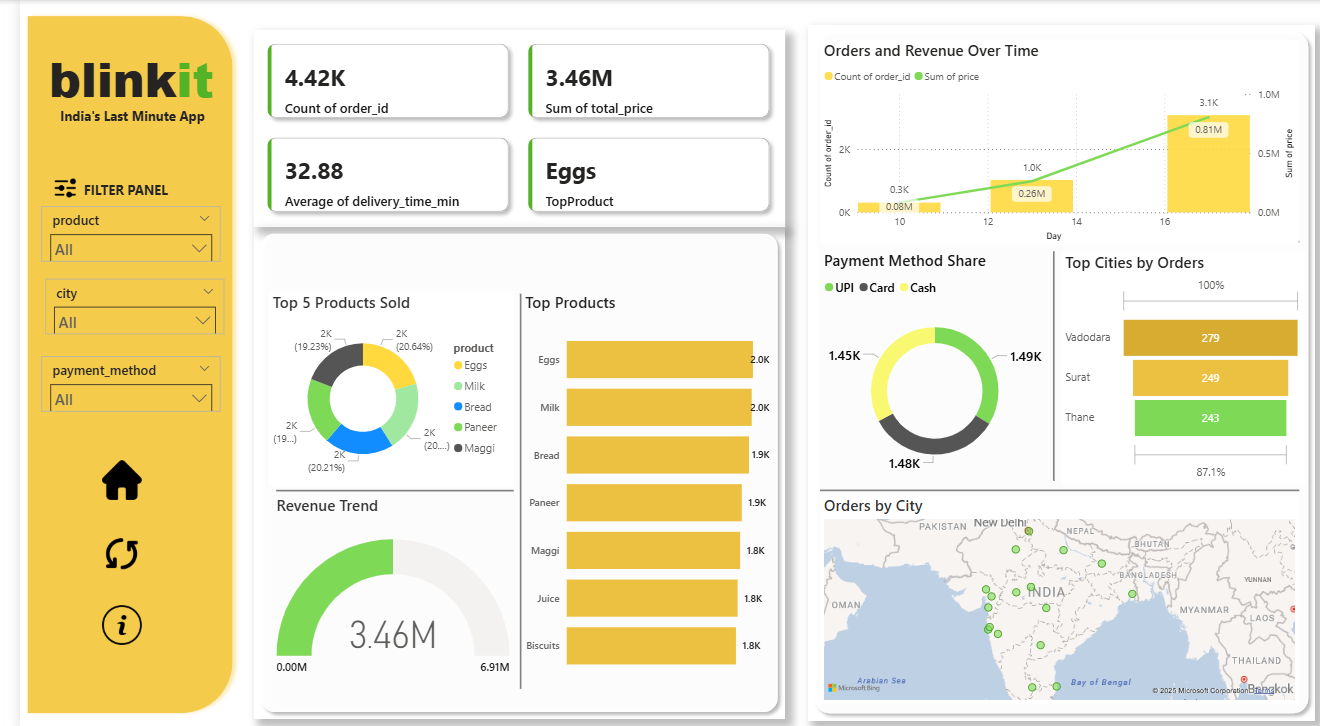

This screenshot's page, from the dashboard's own definition file:
{"tool":"powerbi","page":{"name":"Blinkit Real-Time Analytics Dashboard","canvas":[1600,900],"ordinal":0},"visuals":[{"type":"shape","box":[0,10,270,873.3],"z":0},{"type":"textbox","box":[30,48.6,232.9,95.7],"z":1000},{"type":"textbox","box":[44.3,125.7,205.7,37.1],"z":2000},{"type":"cardVisual","fields":{"Data":["Count(orders_data.order_id)","Sum(orders_data.total_price)","Avg(orders_data.delivery_time_min)","orders_data.TopProduct"]},"box":[286.7,36.7,651.7,241.7],"z":3000},{"type":"shape","box":[286.7,278.3,651.7,605],"z":4000},{"type":"gauge","title":"Revenue Trend","fields":{"Y":["Sum(orders_data.total_price)"]},"box":[309.8,607.4,296,254.6],"z":5000},{"type":"shape","box":[314.4,579.8,291.4,44.5],"z":6000},{"type":"shape","box":[595,360,38.3,485],"z":7000},{"type":"barChart","title":"Top Products","fields":{"Y":["Sum(orders_data.quantity)"],"Category":["orders_data.product"]},"box":[615,357.4,309.8,487.7],"z":8000},{"type":"shape","box":[966.7,30,623.3,853.3],"z":9000},{"type":"shape","box":[981.7,279,588.1,34.7],"z":10000},{"type":"donutChart","title":"Payment Method Share","fields":{"Y":["CountNonNull(orders_data.order_id)"],"Category":["orders_data.payment_method"]},"box":[981.7,306.1,282,289.5],"z":11000},{"type":"shape","box":[1248.3,308.3,40,281.7],"z":12000},{"type":"shape","box":[981.7,585.1,588.1,34.7],"z":13000},{"type":"slicer","fields":{"Values":["orders_data.product"]},"box":[26.7,253.3,220,68.3],"z":14000},{"type":"slicer","fields":{"Values":["orders_data.city"]},"box":[30,341.7,220,68.3],"z":15000},{"type":"slicer","fields":{"Values":["orders_data.payment_method"]},"box":[26.7,436.7,220,68.3],"z":16000},{"type":"textbox","box":[74.2,215.7,123.7,37.7],"z":17000},{"type":"image","box":[95,559.5,60.3,58.8],"z":18000},{"type":"image","box":[36.5,206.6,37.7,46.7],"z":19000},{"type":"image","box":[95,650,60.3,58.8],"z":20000},{"type":"image","box":[95,737.4,60.3,58.8],"z":21000},{"type":"map","title":"Orders by City","fields":{"Category":["orders_data.city"]},"box":[981.6,607.4,587.4,256.1],"z":22000},{"type":"donutChart","title":"Top 5 Products Sold","fields":{"Category":["orders_data.product"],"Y":["Sum(orders_data.quantity)"]},"box":[305.2,357.4,300.6,239.3],"z":23000},{"type":"lineStackedColumnComboChart","title":"Orders and Revenue Over Time","fields":{"Y":["CountNonNull(orders_data.order_id)"],"Y2":["Sum(orders_data.price)"],"Category":["orders_data.order_time.Variation.Date Hierarchy.Day"]},"box":[981.6,49.1,587.4,251.5],"z":24000},{"type":"funnel","title":"Top Cities by Orders","fields":{"Category":["orders_data.city"],"Y":["CountNonNull(orders_data.order_id)"]},"box":[1277.9,308.7,300.2,286.5],"z":25000}]}

Visuals, with their boxes in screenshot pixels (x1, y1, x2, y2), scaled from the page's 1600x900 canvas onto the 1320x726 screenshot:
shape: Rect(0, 8, 223, 713)
textbox: Rect(25, 39, 217, 116)
textbox: Rect(37, 101, 206, 131)
cardVisual - Count(orders_data.order_id) x Sum(orders_data.total_price): Rect(237, 30, 774, 225)
shape: Rect(237, 224, 774, 713)
"Revenue Trend" gauge: Rect(256, 490, 500, 695)
shape: Rect(259, 468, 500, 504)
shape: Rect(491, 290, 522, 682)
"Top Products" barChart: Rect(507, 288, 763, 682)
shape: Rect(798, 24, 1312, 713)
shape: Rect(810, 225, 1295, 253)
"Payment Method Share" donutChart: Rect(810, 247, 1043, 480)
shape: Rect(1030, 249, 1063, 476)
shape: Rect(810, 472, 1295, 500)
slicer - orders_data.product: Rect(22, 204, 204, 259)
slicer - orders_data.city: Rect(25, 276, 206, 331)
slicer - orders_data.payment_method: Rect(22, 352, 204, 407)
textbox: Rect(61, 174, 163, 204)
image: Rect(78, 451, 128, 499)
image: Rect(30, 167, 61, 204)
image: Rect(78, 524, 128, 572)
image: Rect(78, 595, 128, 642)
"Orders by City" map: Rect(810, 490, 1294, 697)
"Top 5 Products Sold" donutChart: Rect(252, 288, 500, 481)
"Orders and Revenue Over Time" lineStackedColumnComboChart: Rect(810, 40, 1294, 242)
"Top Cities by Orders" funnel: Rect(1054, 249, 1302, 480)
